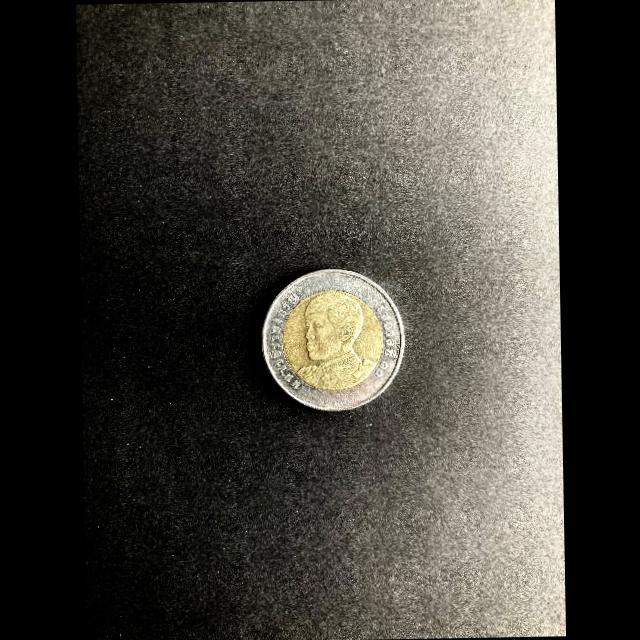10 Bath: (261, 266, 409, 417)
